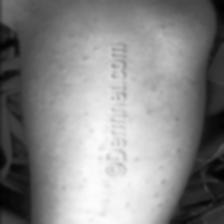Non-Cancerous Skin Condition: (43, 38, 95, 224), (116, 118, 186, 214)
